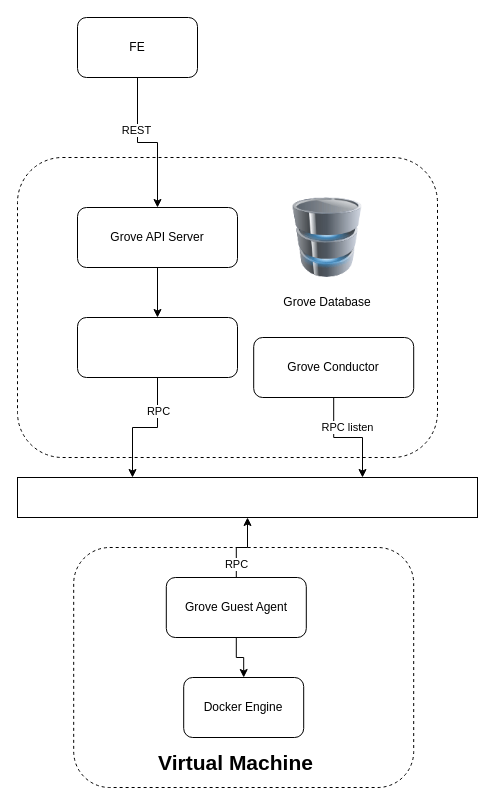
The diagram is 495 pixels wide and 805 high, and some of its shapes have lost their labels. The shapes that lost their labels are listed below. From the top down, each one's centre as x and y in pixels, then its label:
(x=157, y=347): Grove Task manager
(x=247, y=497): RabbitMQ
